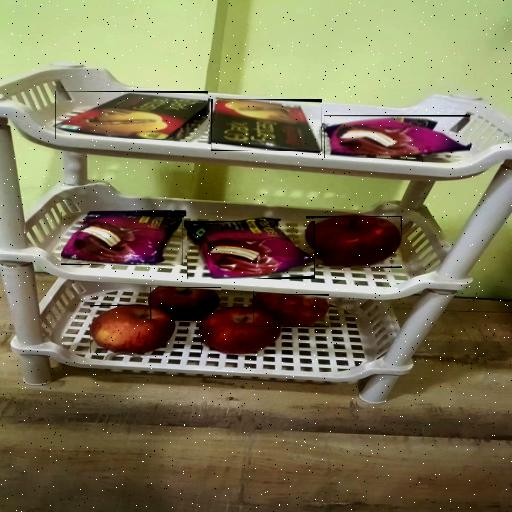Apple: (306, 216, 402, 268), (90, 305, 174, 353), (201, 307, 282, 354), (253, 294, 329, 327), (150, 287, 221, 321)
Choco Fills: (55, 91, 208, 139), (211, 99, 322, 151)
Choco Pie: (187, 221, 315, 279), (62, 212, 184, 265), (324, 115, 470, 158)
